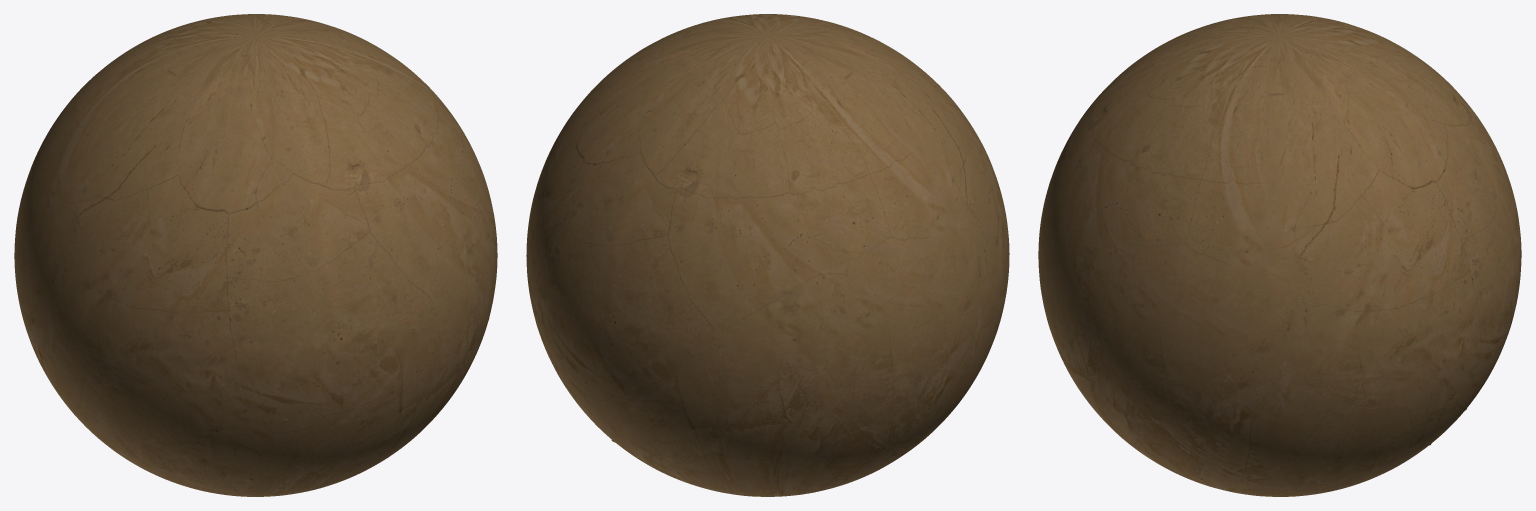
File: clay_floor_001_2k.gltf
3 views of the same model, side by side, from view 1: azimuth 30°, elevation 25°; view 2: azimuth 150°, elevation 25°; view 3: azimuth 270°, elevation 25° (orthographic).
Visible parts, largest first — view 1: sphere_gltf; view 2: sphere_gltf; view 3: sphere_gltf.
Boxes of the visible parts, bbox=[...] form: sphere_gltf: bbox=[14, 14, 497, 496]; sphere_gltf: bbox=[526, 14, 1009, 496]; sphere_gltf: bbox=[1038, 14, 1521, 496].
Size of the model in its own units: 2 by 2 by 2.
1 material, 1 textured.
